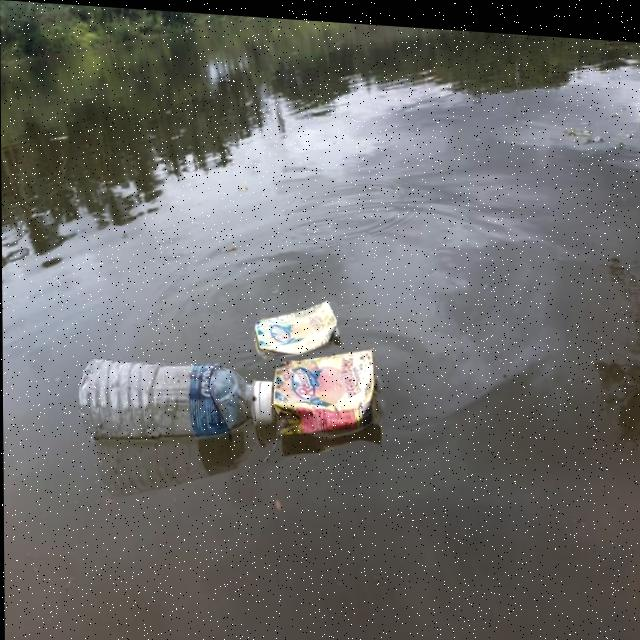paper: (276, 345, 395, 443), (253, 277, 347, 368)
waterbottle: (77, 350, 274, 471)
